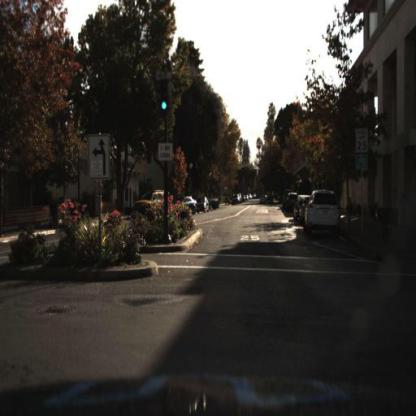car: (305, 189, 343, 236), (134, 188, 174, 222), (176, 196, 198, 215), (198, 194, 210, 212)
trafficLight-Green: (161, 86, 169, 117)
